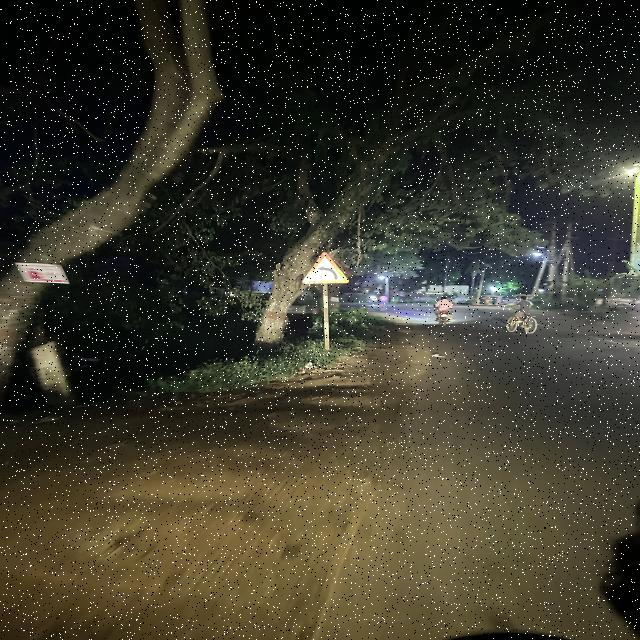left_hand_curve: (306, 248, 354, 291)
